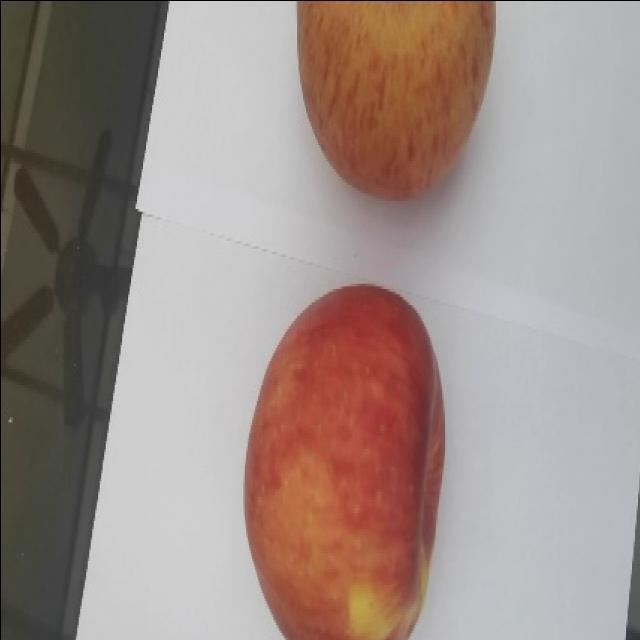Apple: (244, 285, 452, 640), (291, 0, 503, 204)
